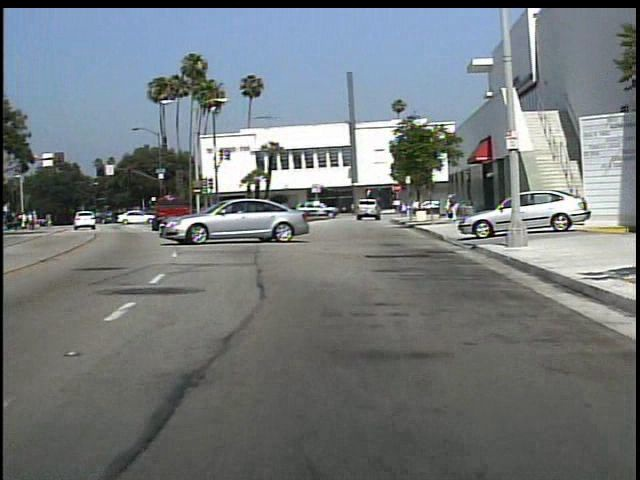person: (447, 191, 461, 226), (444, 194, 454, 223)
